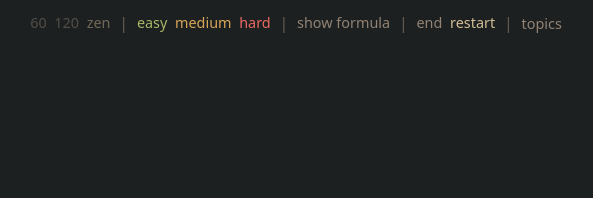
Test: ControlBar topics menu › shows active difficulties above topics search
Click the button "topics". click: point(542, 24)
box: [522,17,562,31]
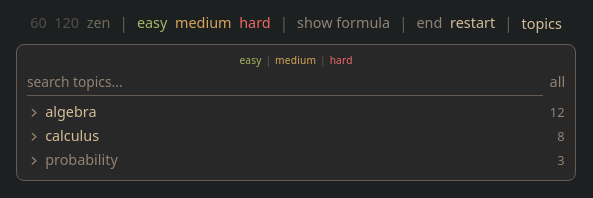
Check: the field with placeholder "search topics..." is shown, box [27,69,543,96]
Check: the element with class "topics-active-difficulties" shows "easy", box [239,52,262,66]
Check: the element with class "topics-active-difficulties" shows "medium", box [275,52,316,66]
